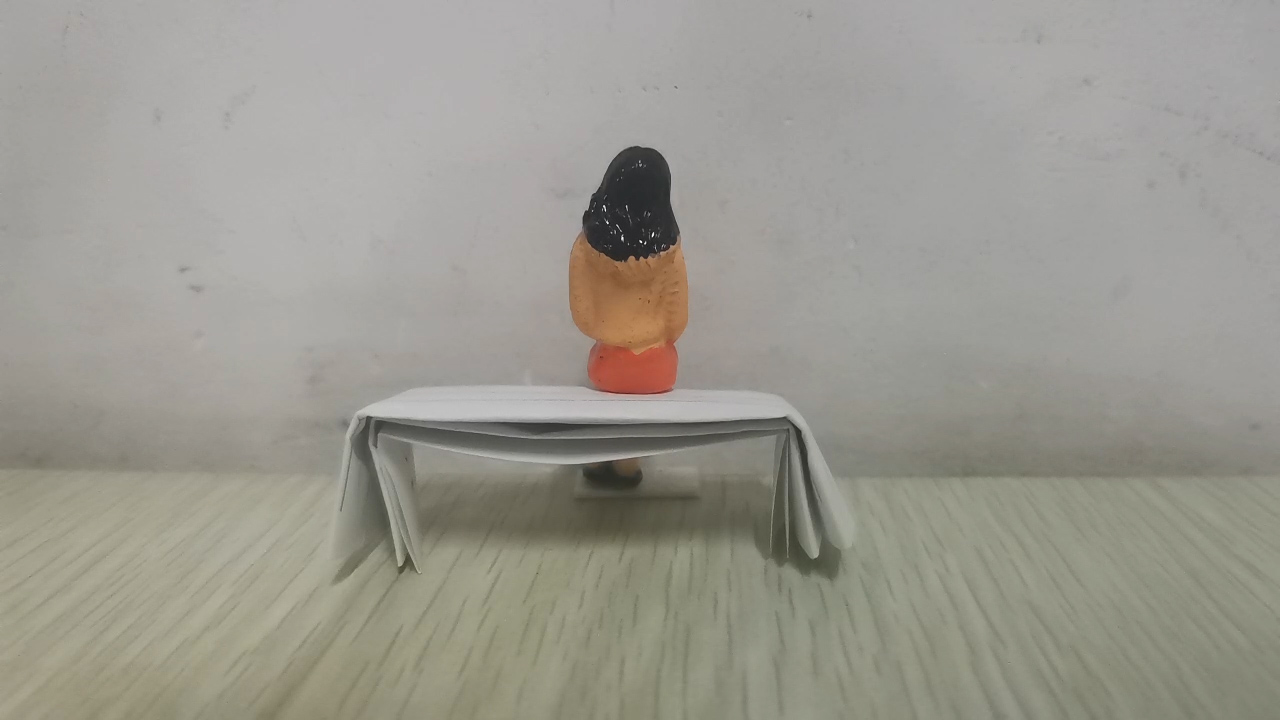person: (567, 142, 693, 488)
